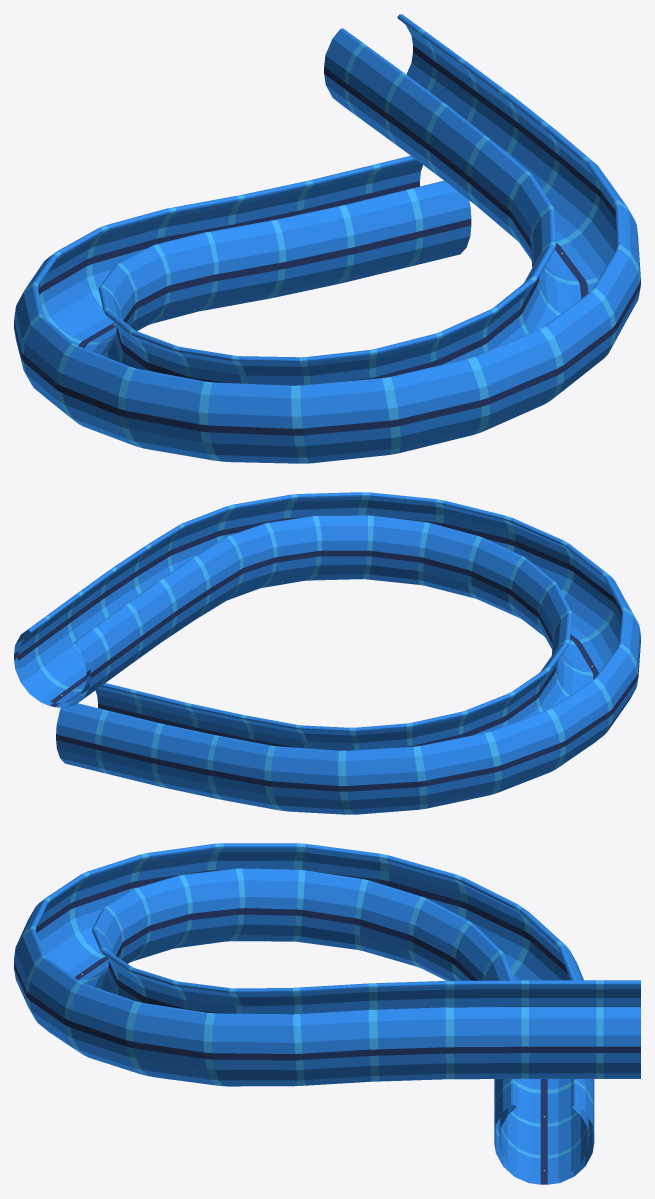
Rendered from tunnel_90_S_R.fbx.
3 renders of one model, top to bottom at view 1: azimuth 30°, elevation 25°; view 2: azimuth 150°, elevation 25°; view 3: azimuth 270°, elevation 25°, orthographic. The views are drawn at different scales.
Parts seen in each view (by area): view 1: tunnel_90_S_R; view 2: tunnel_90_S_R; view 3: tunnel_90_S_R.
Boxes of the visible parts, x1=… form: tunnel_90_S_R: x1=14, y1=14, x2=640, y2=463; tunnel_90_S_R: x1=14, y1=492, x2=640, y2=814; tunnel_90_S_R: x1=14, y1=843, x2=640, y2=1184.
Size of the model in its own units: 10505 by 3621 by 11344.
2 materials, 1 textured.
